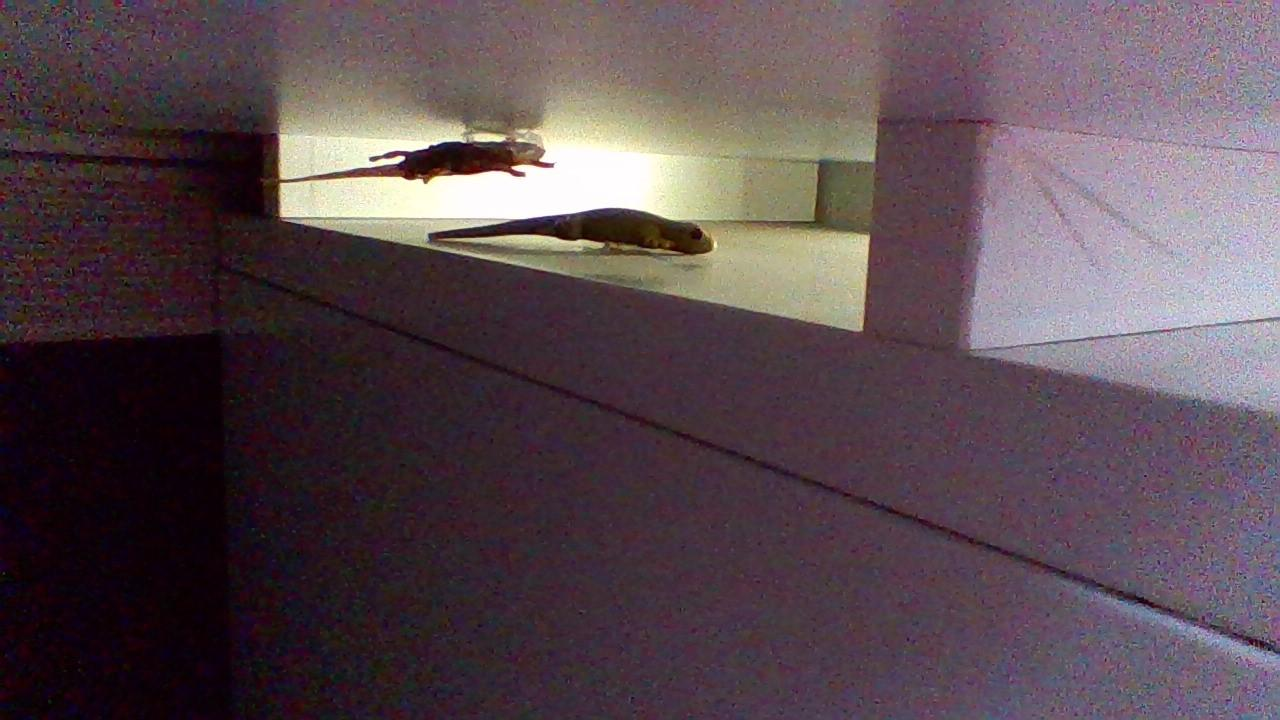cockroach: (302, 126, 550, 188)
lizard: (423, 200, 713, 263)
